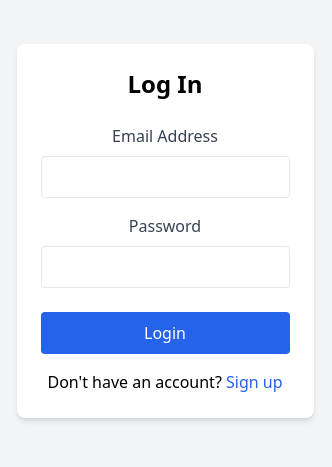
it: Login Component › shows error on failed login
The width and height of the screenshot is (332, 467).
Fill out and submit the form
Type "wrong@example.com" into the field labelled "Email Address". click: (165, 177)
box: [40, 156, 290, 198]
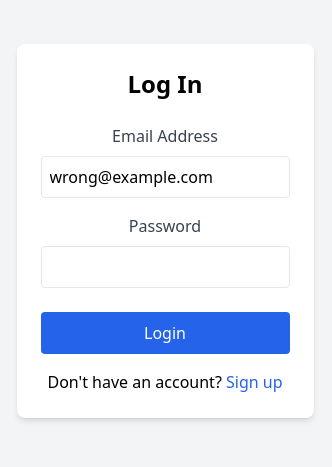
Type "wrongpassword" into the password field labelled "Password". click: (165, 267)
box: [40, 246, 290, 288]
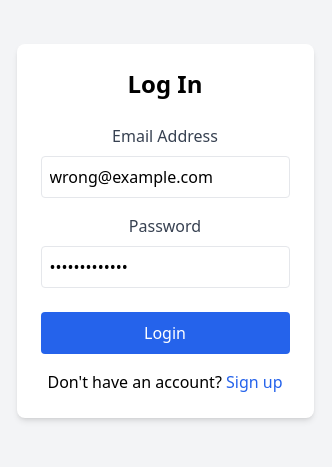
Click the button "Login". click: (165, 333)
box: [40, 312, 290, 354]
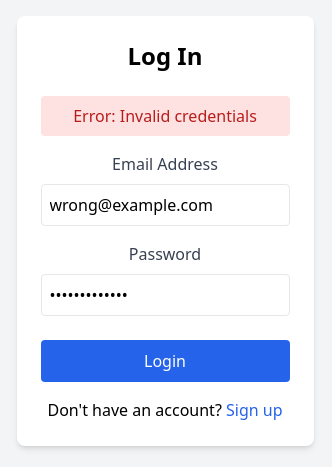
expect the text "Error: Invalid credentials" is shown: met, box [40, 96, 290, 136]
